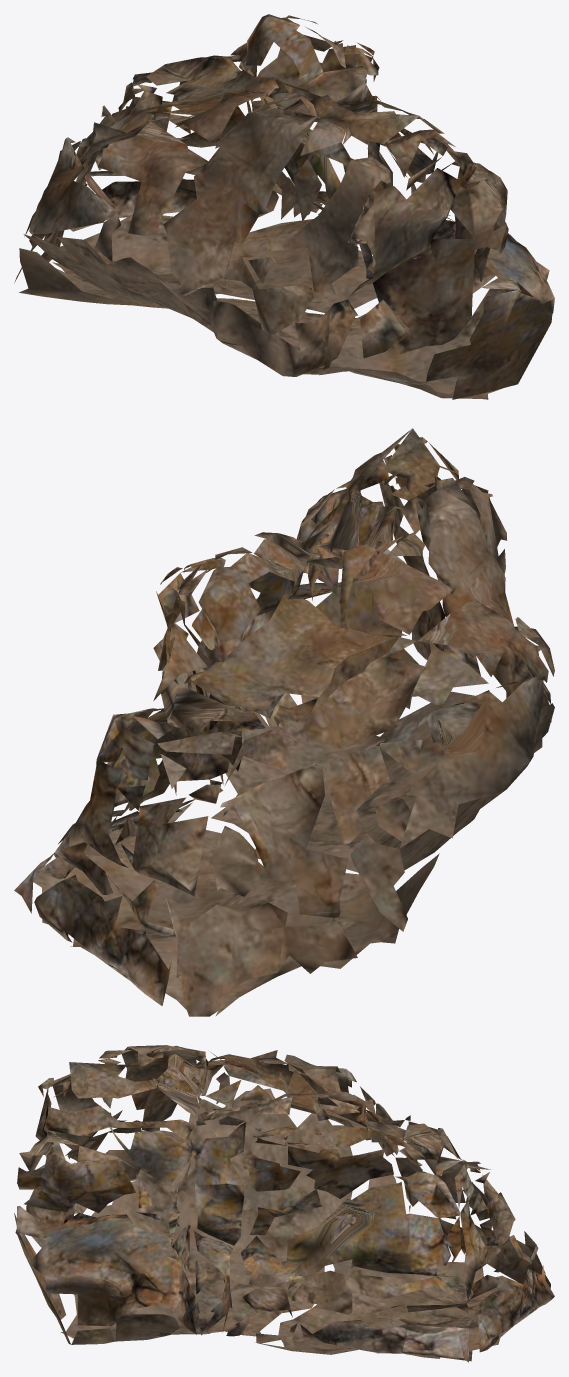
File: boulder.glb
The picture shows the model from 3 angles, top to bottom: view 1: azimuth 30°, elevation 25°; view 2: azimuth 150°, elevation 25°; view 3: azimuth 270°, elevation 25°; orthographic projection. The views are drawn at different scales.
Visible parts, largest first — view 1: boulder_01; view 2: boulder_01; view 3: boulder_01.
Part boxes in pixels (bbox=[...]): boulder_01: bbox=[14, 14, 554, 399]; boulder_01: bbox=[14, 428, 554, 1016]; boulder_01: bbox=[14, 1045, 554, 1362].
Bounding box in the file's own units: 1.27 × 0.9966 × 1.81.
1 material, 1 textured.
